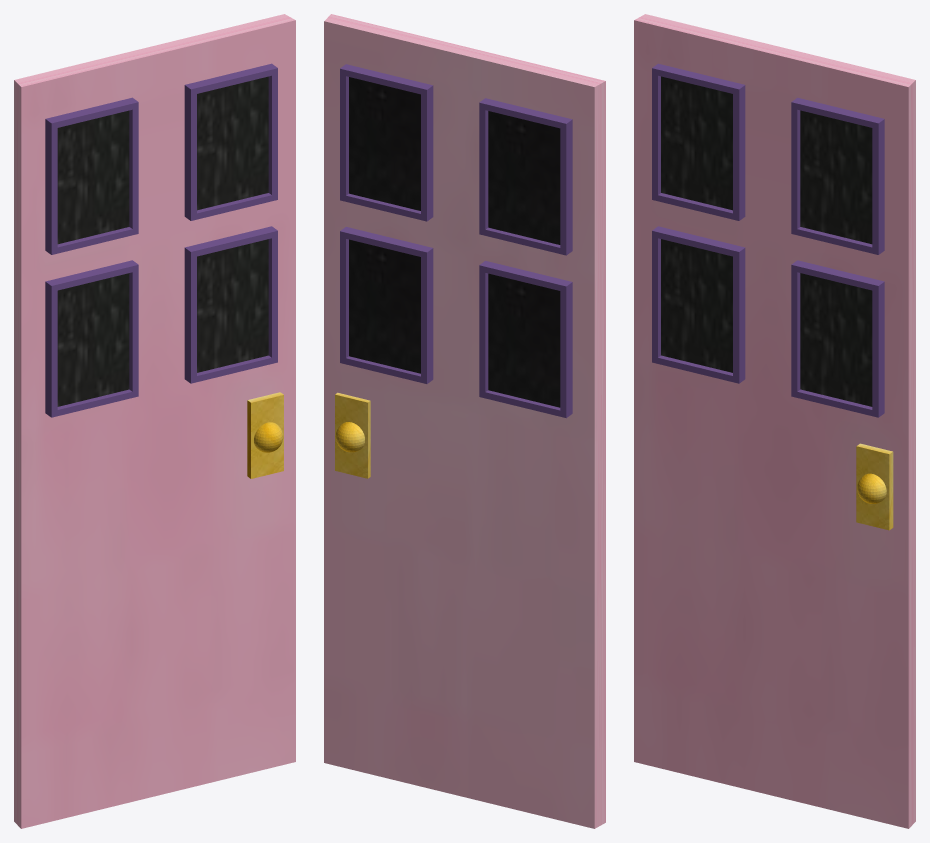
Rendered from puertaAnim.obj.
The picture shows the model from 3 angles, left to right: view 1: azimuth 30°, elevation 25°; view 2: azimuth 150°, elevation 25°; view 3: azimuth 330°, elevation 25°; orthographic projection.
Parts seen in each view (by area): view 1: Cube.002; view 2: Cube.002; view 3: Cube.002.
Part boxes in pixels (<box>): Cube.002: <box>14,14,295,828</box>; Cube.002: <box>324,14,605,828</box>; Cube.002: <box>634,14,915,828</box>.
Size of the model in its own units: 2.71 by 7.01 by 0.534.
Materials: 13 (13 with a texture image).
